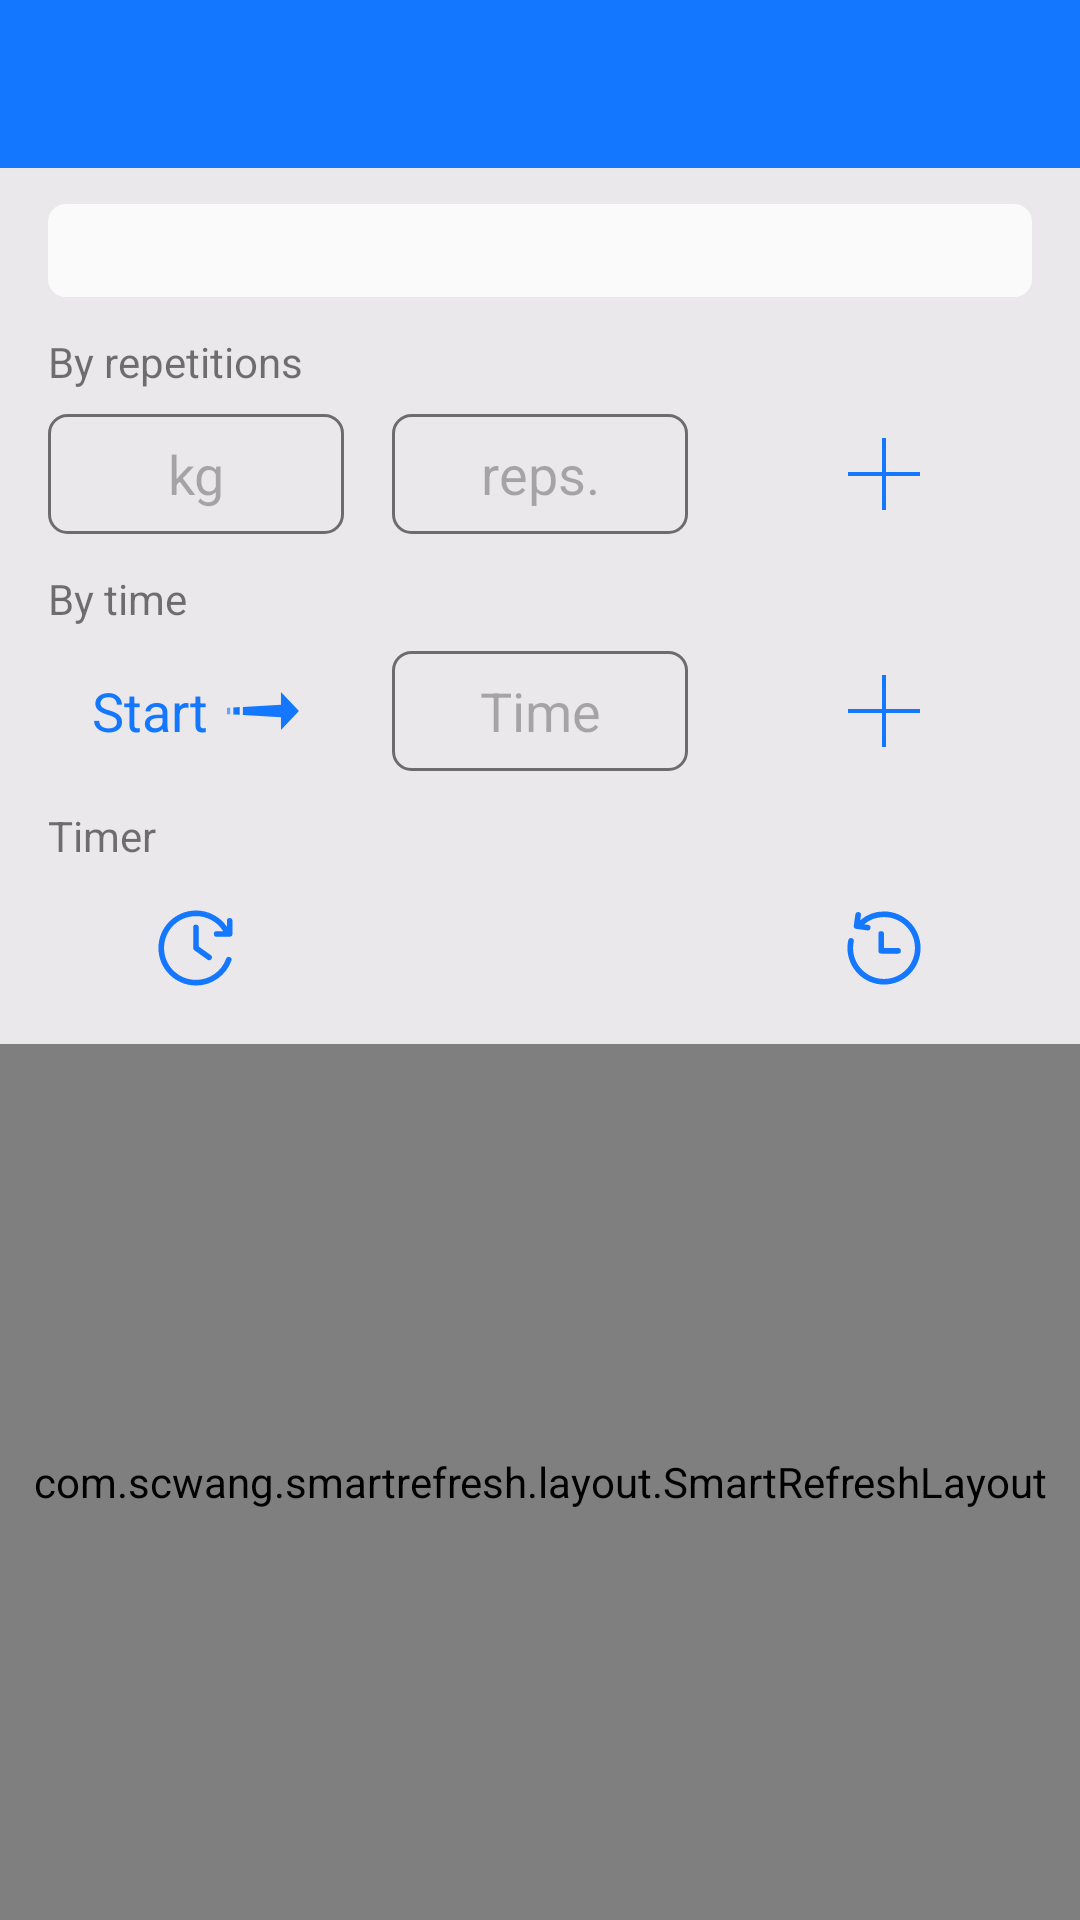

Where icons sit on this 1080w x 1920h app screen, as (x1, y1, x2, y2):
add: (848, 438, 920, 510), (848, 675, 920, 747)
countdown: (847, 911, 921, 985)
pointing right: (227, 692, 299, 730)
timing: (158, 910, 233, 986)
